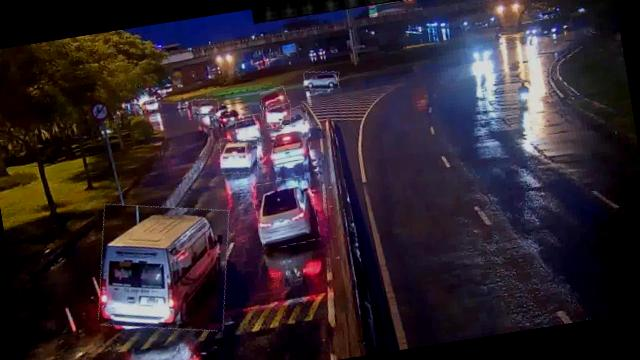Bike: (518, 78, 534, 107)
Bus: (87, 191, 240, 342)
Car: (252, 175, 321, 248), (267, 122, 312, 172), (217, 134, 261, 176), (274, 106, 312, 138), (226, 114, 264, 140), (261, 97, 293, 127), (302, 68, 340, 93), (259, 86, 288, 110), (190, 96, 220, 118)
